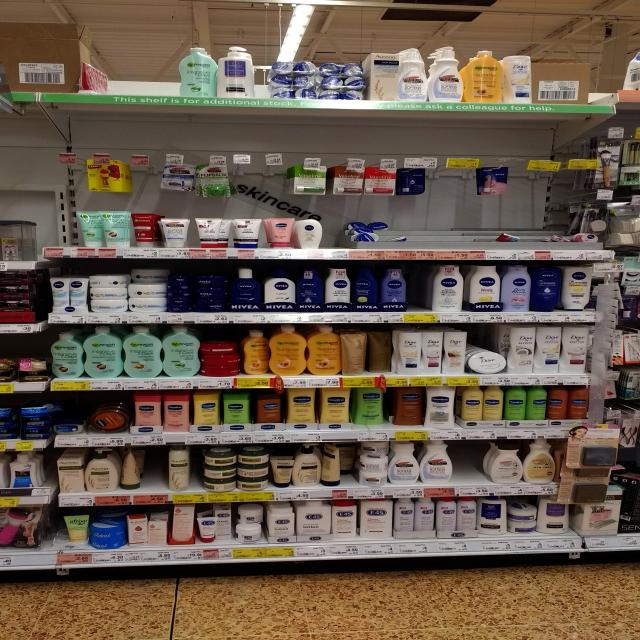empty_space: (108, 38, 174, 94), (456, 443, 480, 479)
